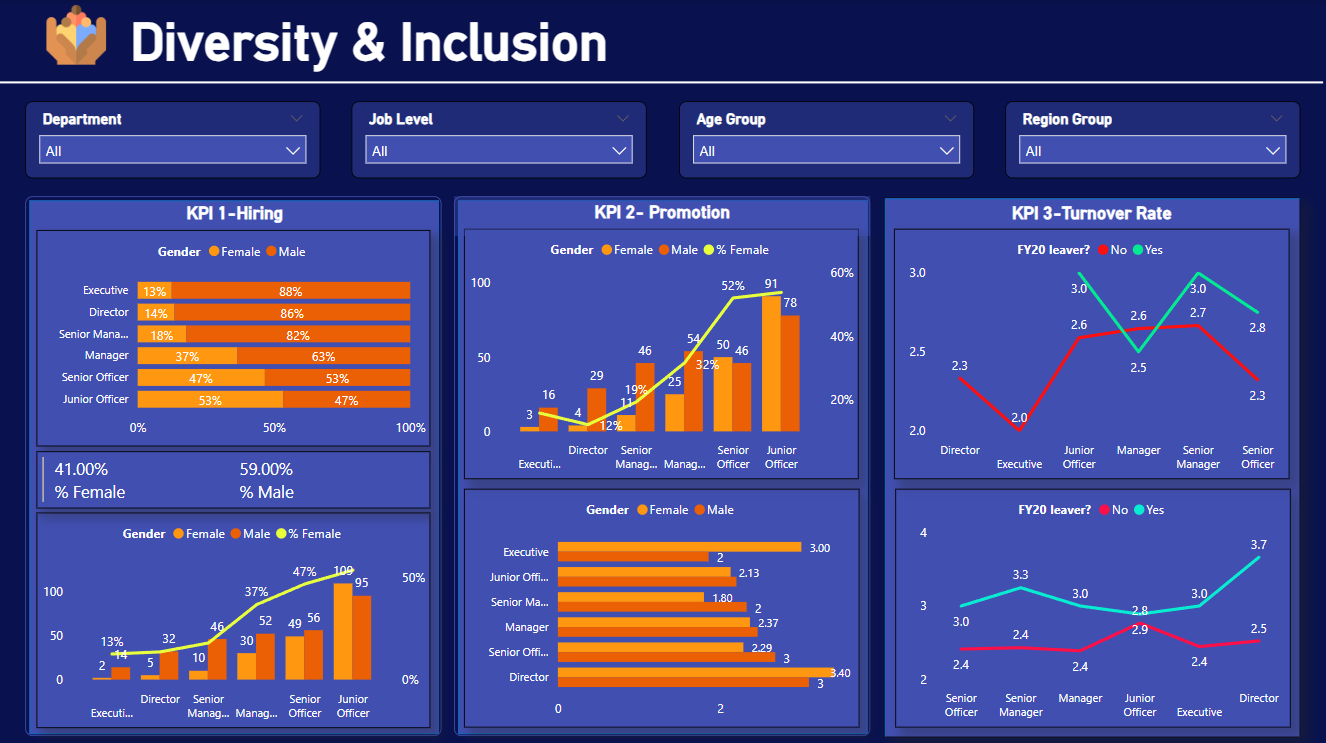

The page's visual inventory and layout, read from the dashboard file:
{"tool":"powerbi","page":{"name":"Page1","canvas":[1280,720],"ordinal":0},"visuals":[{"type":"textbox","box":[121.2,6.2,613.8,72.5],"z":0},{"type":"shape","box":[25.3,189.3,401.6,521],"z":1000},{"type":"slicer","fields":{"Values":["Pharma Group AG.Last Department in FY20"]},"box":[25.3,97.7,284.6,74.8],"z":2000},{"type":"shape","box":[0,65,1277.5,28.8],"z":3000},{"type":"slicer","fields":{"Values":["Pharma Group AG.Job Level after FY20 promotions"]},"box":[340.5,97.7,284.6,74.8],"z":4000},{"type":"slicer","fields":{"Values":["Pharma Group AG.Age group"]},"box":[655.7,97.7,284.6,74.8],"z":5000},{"type":"slicer","fields":{"Values":["Pharma Group AG.Broad region group: nationality 1","Pharma Group AG.Department & JL group PRA status"]},"box":[970.9,97.7,284.6,74.8],"z":6000},{"type":"hundredPercentStackedBarChart","fields":{"Category":["Pharma Group AG.Job Level after FY20 promotions"],"Series":["Pharma Group AG.Gender"],"Y":["CountNonNull(Pharma Group AG.Employee ID)"]},"box":[36.2,222.5,380,208.8],"z":7000},{"type":"lineClusteredColumnComboChart","fields":{"Category":["Pharma Group AG.Job Level after FY20 promotions"],"Series":["Pharma Group AG.Gender"],"Y":["CountNonNull(Pharma Group AG.Employee ID)"],"Y2":["Pharma Group AG.% Female"]},"box":[36.2,494.3,380,207.6],"z":8000},{"type":"textbox","box":[26.7,190.5,401.9,37.1],"z":9000},{"type":"shape","box":[439,189.3,401.6,521],"z":10000},{"type":"lineClusteredColumnComboChart","fields":{"Category":["Pharma Group AG.Job Level after FY21 promotions"],"Series":["Pharma Group AG.Gender"],"Y":["CountNonNull(Pharma Group AG.Employee ID)"],"Y2":["Pharma Group AG.% Female"]},"box":[448.6,221,381,241.9],"z":11000},{"type":"clusteredBarChart","fields":{"Category":["Pharma Group AG.Job Level after FY20 promotions"],"Series":["Pharma Group AG.Gender"],"Y":["Avg(Pharma Group AG.Time in Job Level @01.07.2020)"]},"box":[448.8,471.2,381.2,230],"z":12000},{"type":"shape","box":[854.2,190.3,401.6,521],"z":13000},{"type":"lineChart","fields":{"Category":["Pharma Group AG.Job Level after FY20 promotions"],"Y":["Avg(Pharma Group AG.FY19 Performance Rating)"],"Series":["Pharma Group AG.FY20 leaver?"]},"box":[863.8,221.2,381.2,241.2],"z":14000},{"type":"lineChart","fields":{"Category":["Pharma Group AG.Job Level after FY20 promotions"],"Y":["Avg(Pharma Group AG.FY19 Performance Rating)"],"Series":["Pharma Group AG.FY20 leaver?"]},"box":[865,471.2,381.2,230],"z":15000},{"type":"textbox","box":[439,189.5,401.9,38.1],"z":16000},{"type":"textbox","box":[854.3,190.5,401,37.1],"z":17000},{"type":"multiRowCard","fields":{"Values":["Pharma Group AG.% Female","Pharma Group AG.% Male"]},"box":[36.2,435,380,55],"z":18000},{"type":"image","box":[26.2,0,96.2,67.5],"z":19000}]}

Visuals, with their boxes in screenshot pixels (x1, y1, x2, y2), scaled from the page's 1280x720 canvas onto the 1326x743 screenshot:
textbox: bbox(126, 6, 761, 81)
shape: bbox(26, 195, 442, 733)
slicer - Pharma Group AG.Last Department in FY20: bbox(26, 101, 321, 178)
shape: bbox(0, 67, 1323, 97)
slicer - Pharma Group AG.Job Level after FY20 promotions: bbox(353, 101, 648, 178)
slicer - Pharma Group AG.Age group: bbox(679, 101, 974, 178)
slicer - Pharma Group AG.Broad region group: nationality 1 x Pharma Group AG.Department & JL group PRA status: bbox(1006, 101, 1301, 178)
hundredPercentStackedBarChart - Pharma Group AG.Job Level after FY20 promotions x Pharma Group AG.Gender: bbox(38, 230, 431, 445)
lineClusteredColumnComboChart - Pharma Group AG.Job Level after FY20 promotions x Pharma Group AG.Gender: bbox(38, 510, 431, 724)
textbox: bbox(28, 197, 444, 235)
shape: bbox(455, 195, 871, 733)
lineClusteredColumnComboChart - Pharma Group AG.Job Level after FY21 promotions x Pharma Group AG.Gender: bbox(465, 228, 859, 478)
clusteredBarChart - Pharma Group AG.Job Level after FY20 promotions x Pharma Group AG.Gender: bbox(465, 486, 860, 724)
shape: bbox(885, 196, 1301, 734)
lineChart - Pharma Group AG.Job Level after FY20 promotions x Avg(Pharma Group AG.FY19 Performance Rating): bbox(895, 228, 1290, 477)
lineChart - Pharma Group AG.Job Level after FY20 promotions x Avg(Pharma Group AG.FY19 Performance Rating): bbox(896, 486, 1291, 724)
textbox: bbox(455, 196, 871, 235)
textbox: bbox(885, 197, 1300, 235)
multiRowCard - Pharma Group AG.% Female x Pharma Group AG.% Male: bbox(38, 449, 431, 506)
image: bbox(27, 0, 127, 70)
